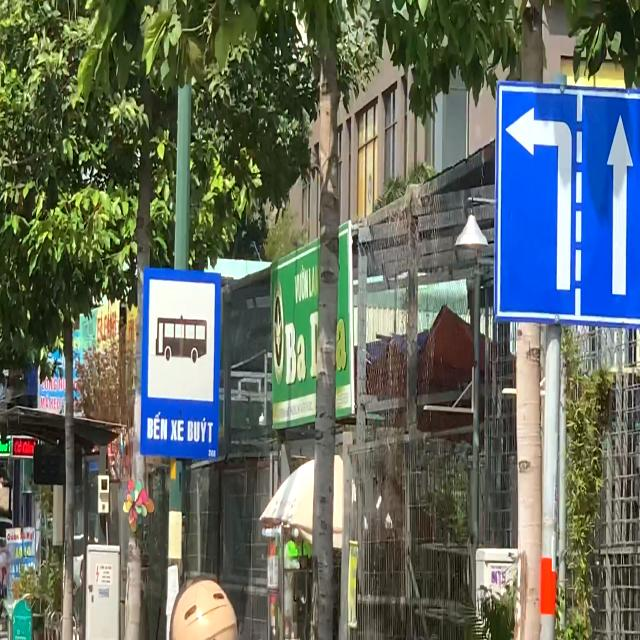R.434: (139, 264, 222, 462)
